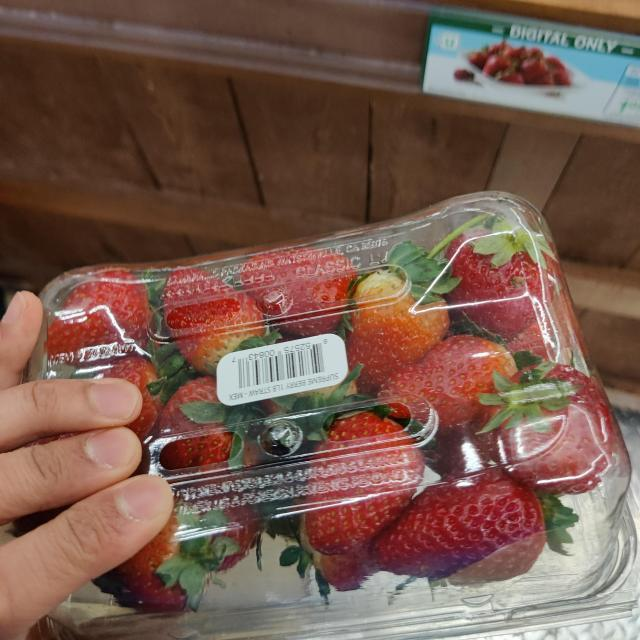Strawberry: (33, 215, 640, 639)
